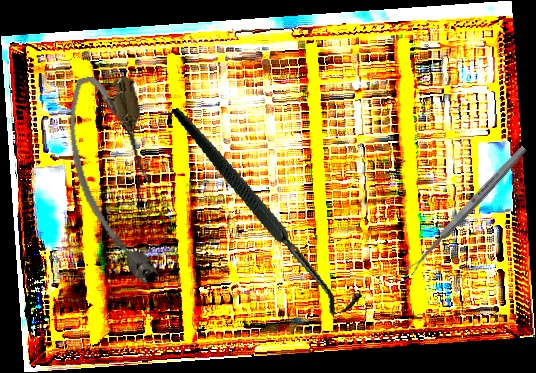Cannula: (58, 68, 173, 293)
Hook Surgical: (171, 78, 365, 339)
Surgical Spoon: (404, 144, 529, 276)
